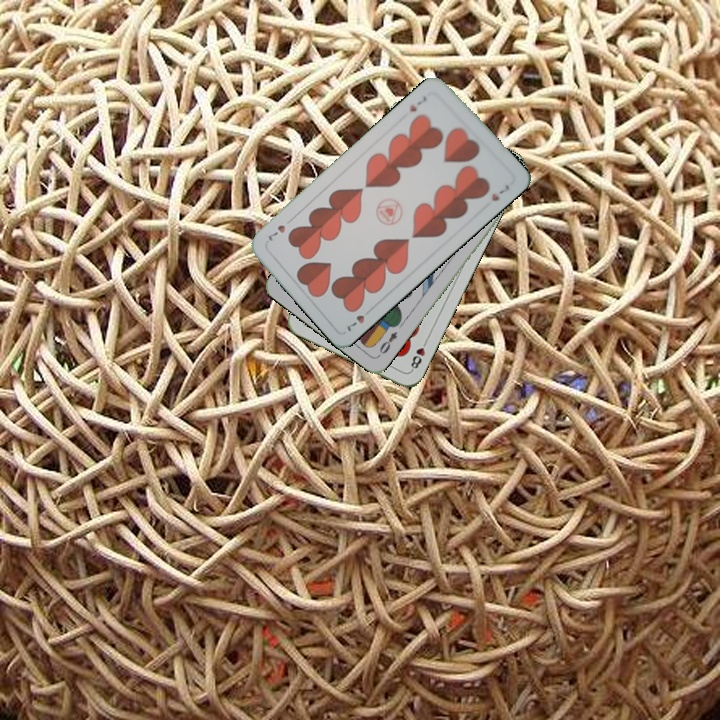EO: (374, 327, 400, 359)
H7: (341, 311, 367, 334), (405, 92, 429, 115)
H8: (406, 335, 430, 373)
